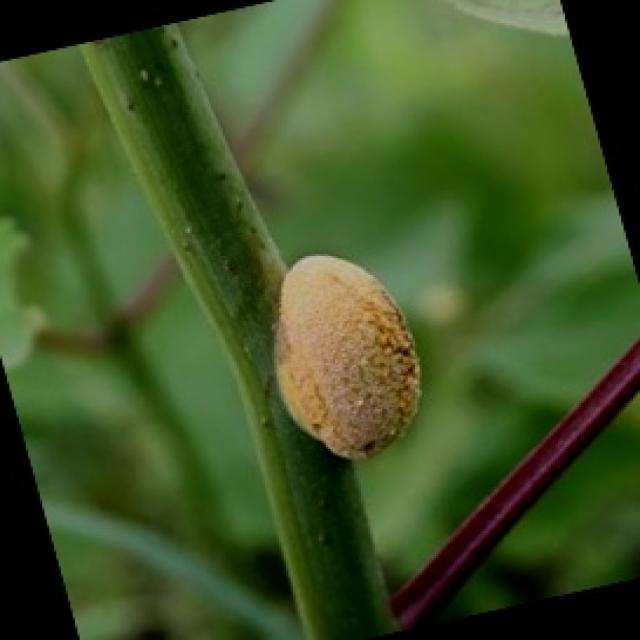Elderberry_rust: (264, 251, 461, 469)
